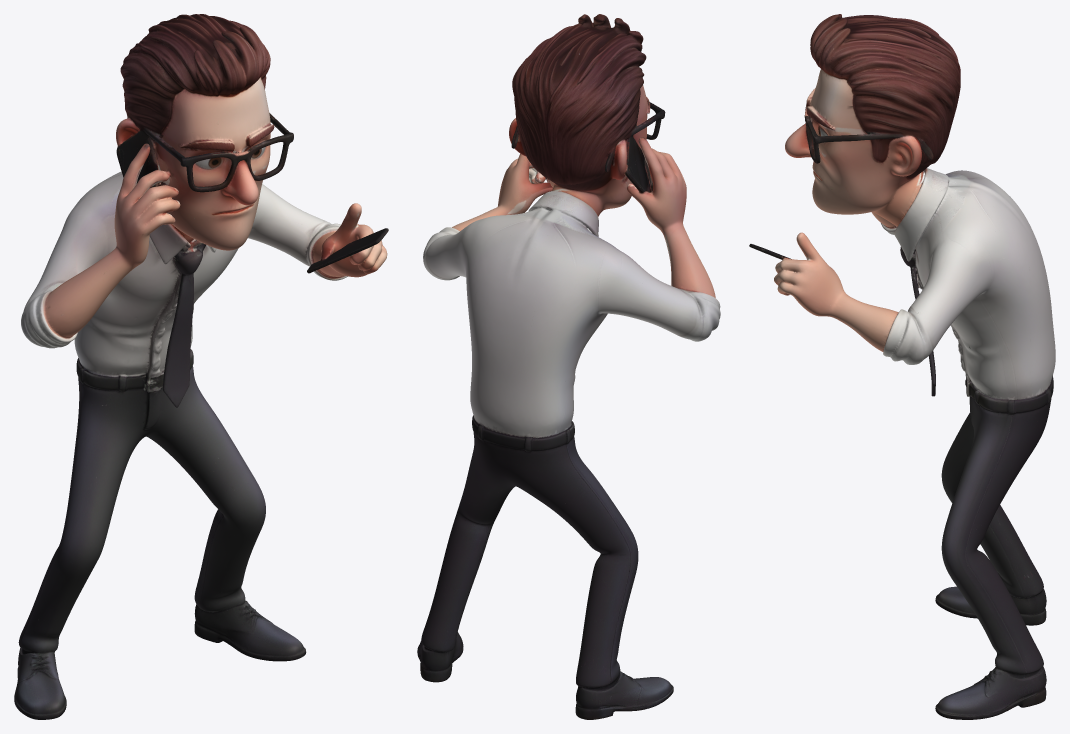
Rendered from workaholic.glb.
3 views of the same model, side by side, from view 1: azimuth 30°, elevation 25°; view 2: azimuth 150°, elevation 25°; view 3: azimuth 270°, elevation 25° (orthographic). The views are drawn at different scales.
Size of the model in its own units: 0.9382 by 1.9 by 0.8227.
Materials: 1 (1 with a texture image).
